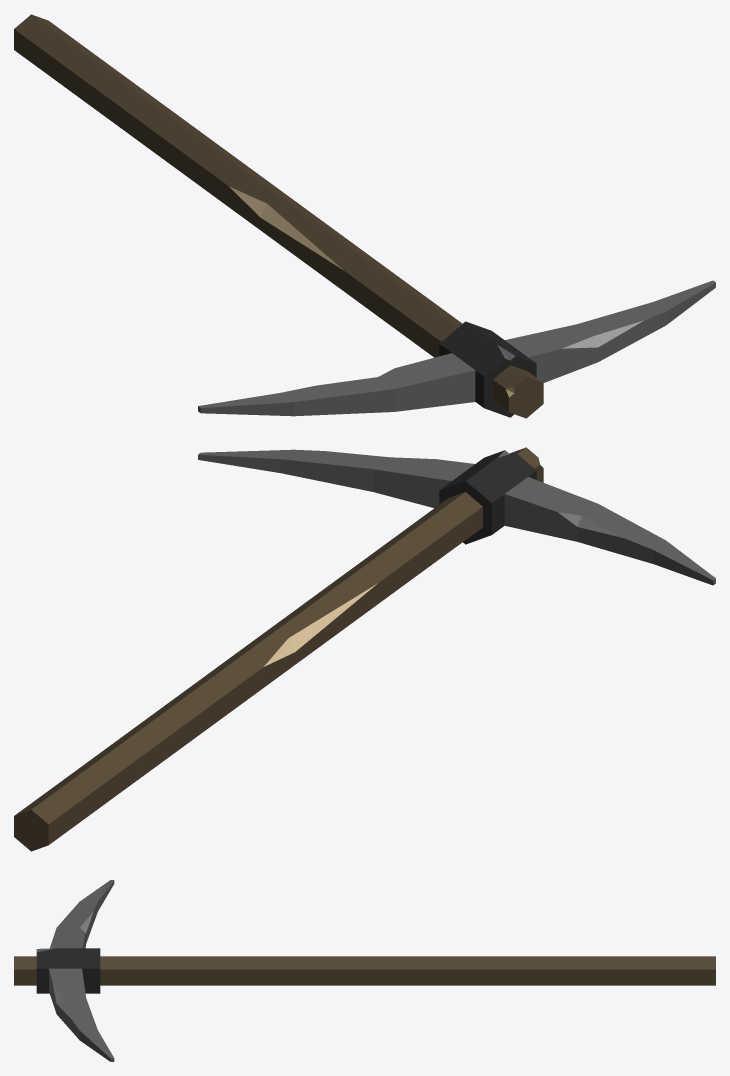
File: EA03_Prop_Tool_Pick_01a.glb
3 views of the same model, one above another, from view 1: azimuth 30°, elevation 25°; view 2: azimuth 150°, elevation 25°; view 3: azimuth 270°, elevation 25° (orthographic). The views are drawn at different scales.
Parts seen in each view (by area): view 1: EA03_Prop_Tool_Pick_01a; view 2: EA03_Prop_Tool_Pick_01a; view 3: EA03_Prop_Tool_Pick_01a.
Boxes of the visible parts, x1,y1,x2,y2 form: EA03_Prop_Tool_Pick_01a: (14,14,715,418); EA03_Prop_Tool_Pick_01a: (14,447,715,851); EA03_Prop_Tool_Pick_01a: (14,880,715,1061).
Size of the model in its own units: 0.5524 by 0.0651 by 0.9194.
Materials: 1 (1 with a texture image).
